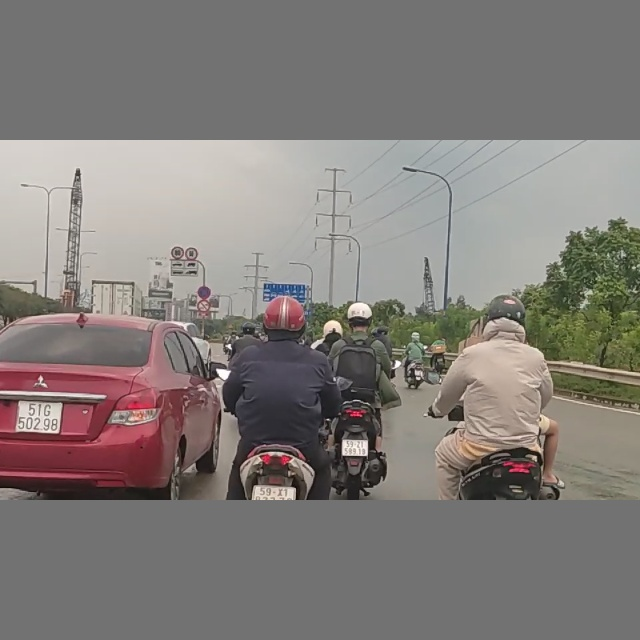P.130: (197, 285, 211, 299)
